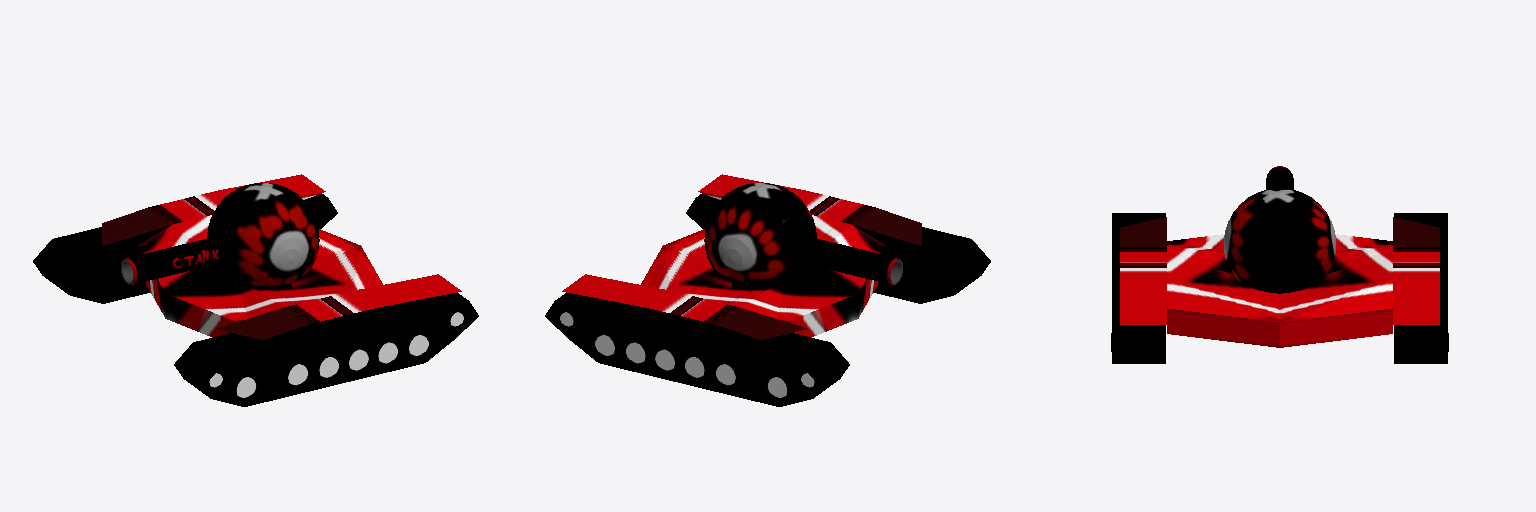
3 views of the same model, side by side, from view 1: azimuth 30°, elevation 25°; view 2: azimuth 150°, elevation 25°; view 3: azimuth 270°, elevation 25° (orthographic).
Visible parts, largest first — view 1: Body_Cube.001, Turret_Sphere.001, Gun_Cylinder; view 2: Body_Cube.001, Turret_Sphere.001, Gun_Cylinder; view 3: Body_Cube.001, Gun_Cylinder, Turret_Sphere.001.
Part boxes in pixels (x1,y1,x2,y2): Body_Cube.001: (33,174,478,406); Turret_Sphere.001: (207,184,319,286); Gun_Cylinder: (121,182,312,284); Body_Cube.001: (545,174,990,406); Turret_Sphere.001: (704,184,816,286); Gun_Cylinder: (711,182,902,284); Body_Cube.001: (1111,213,1448,363); Gun_Cylinder: (1258,166,1301,293); Turret_Sphere.001: (1224,193,1335,289).
Size of the model in its own units: 5.7 by 2.6 by 6.
Materials: 1 (1 with a texture image).